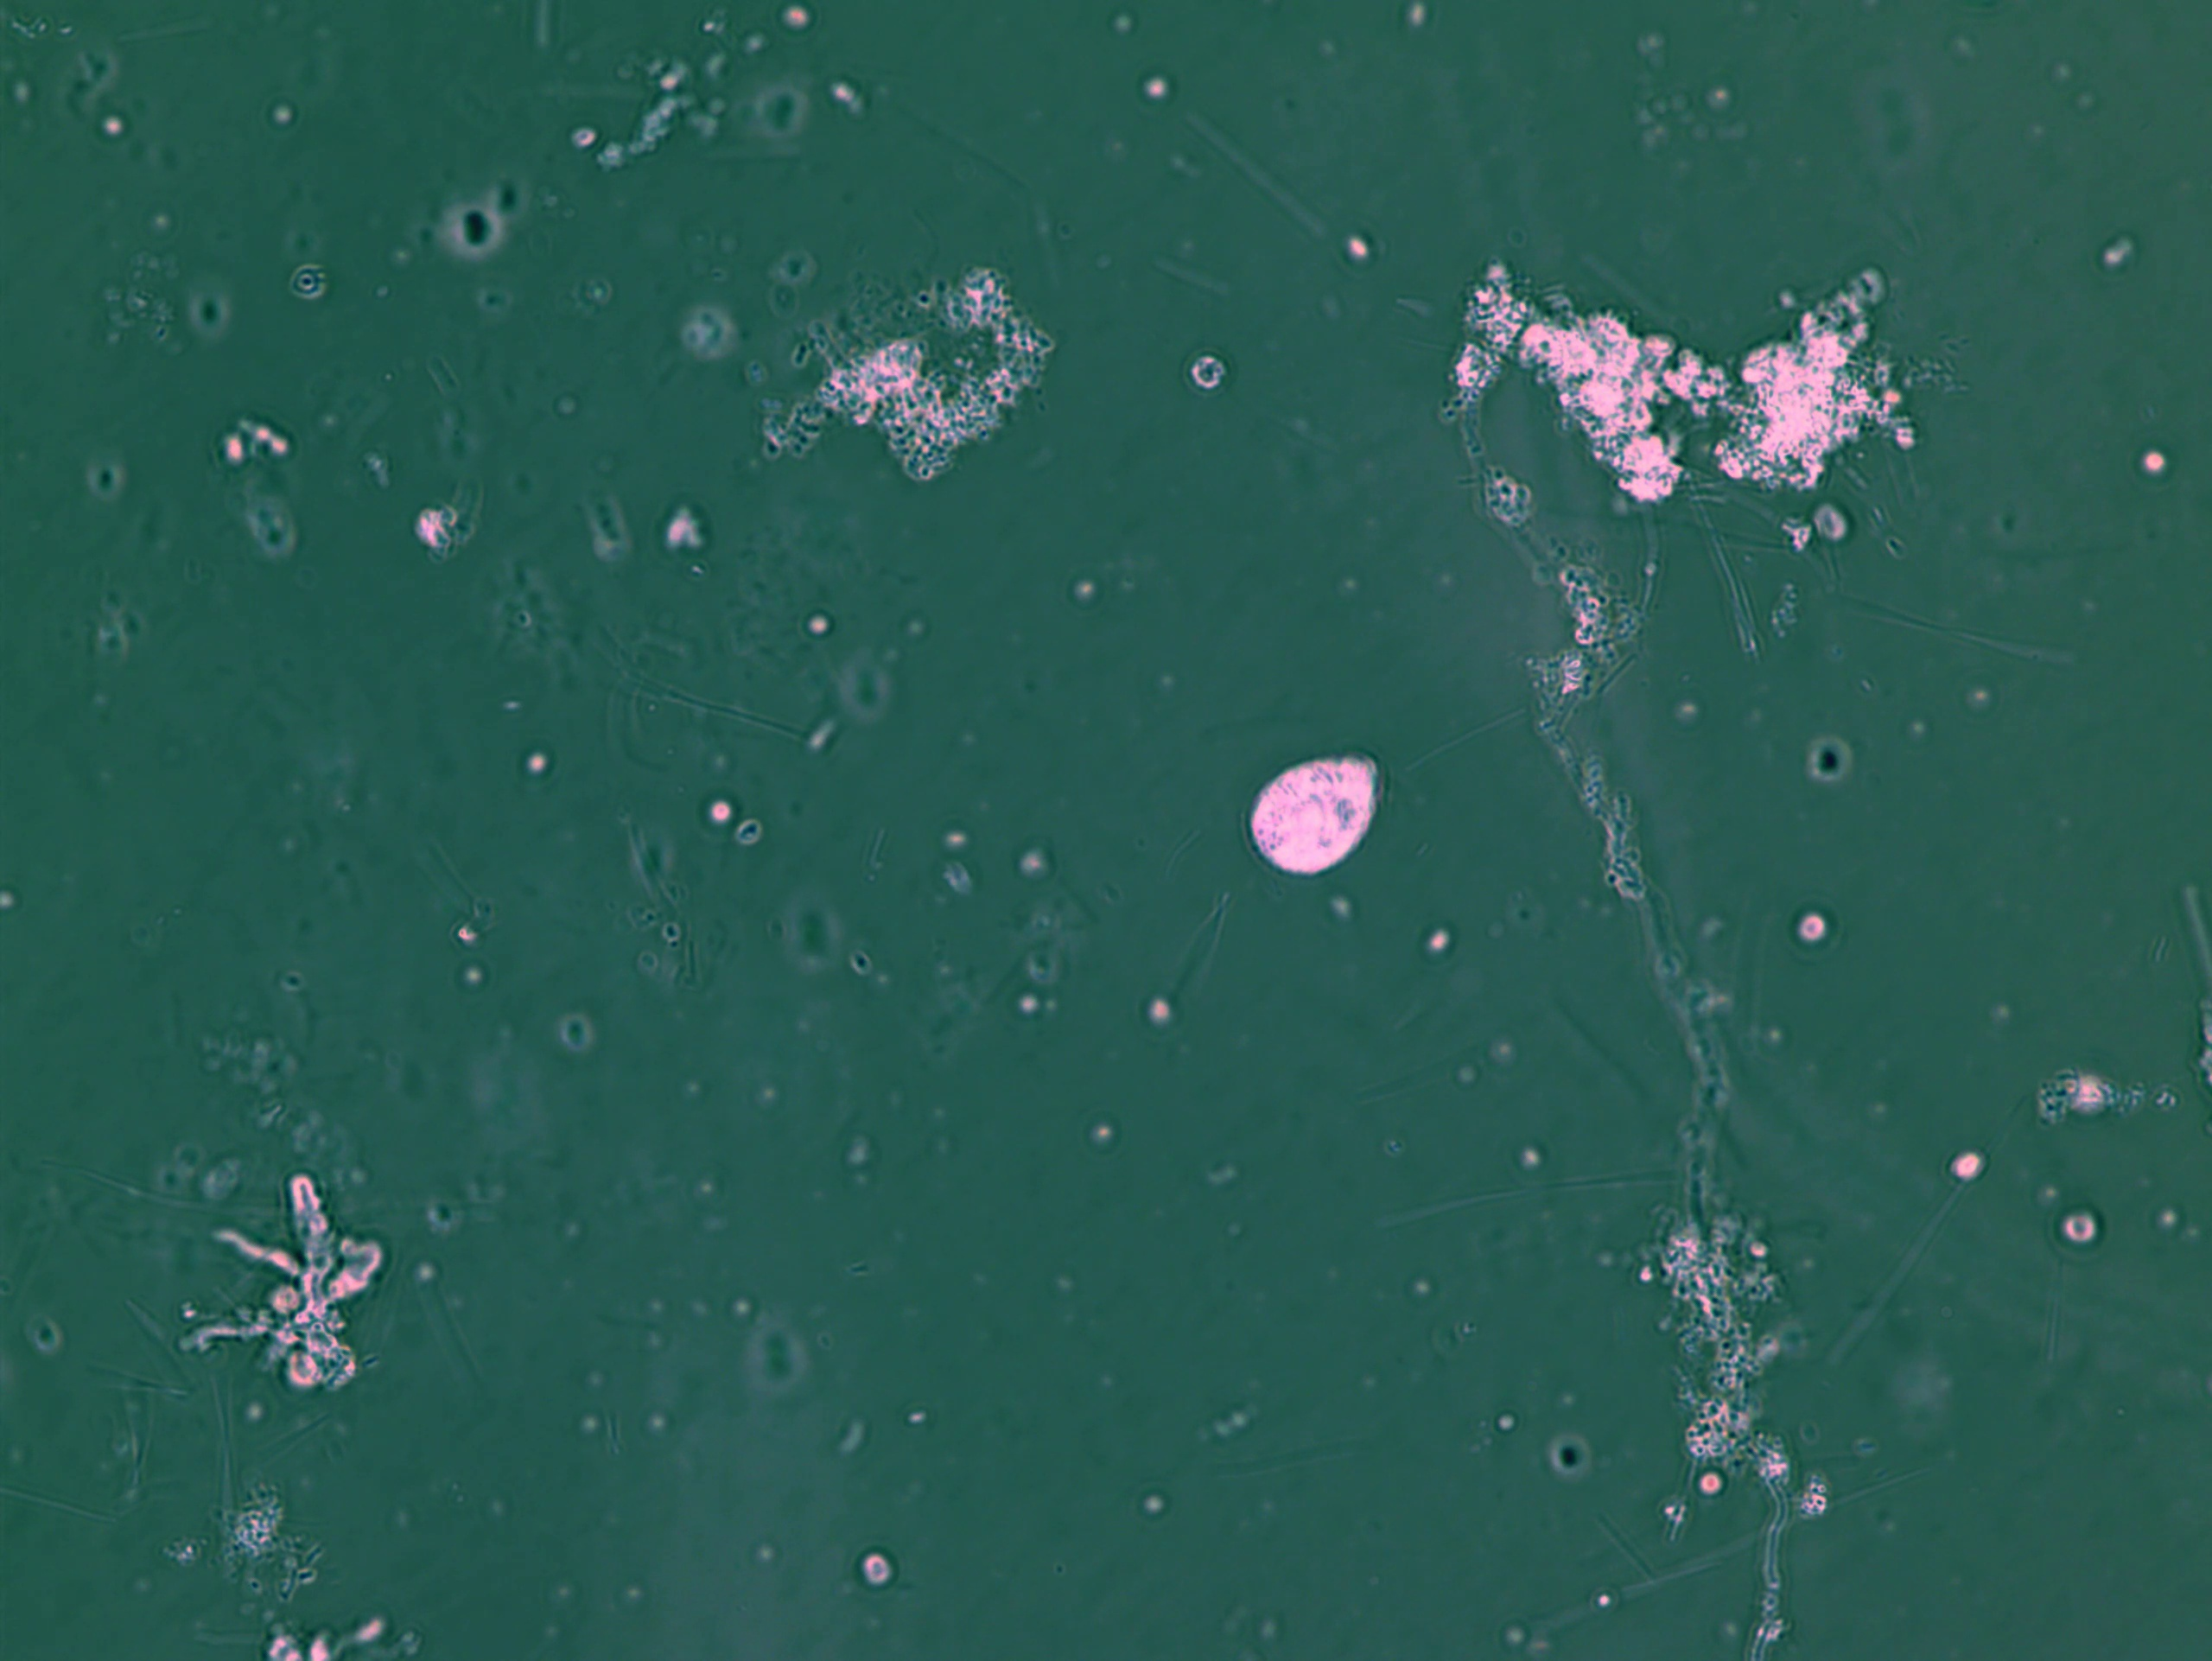depth:20: (1219, 714, 1444, 909)
